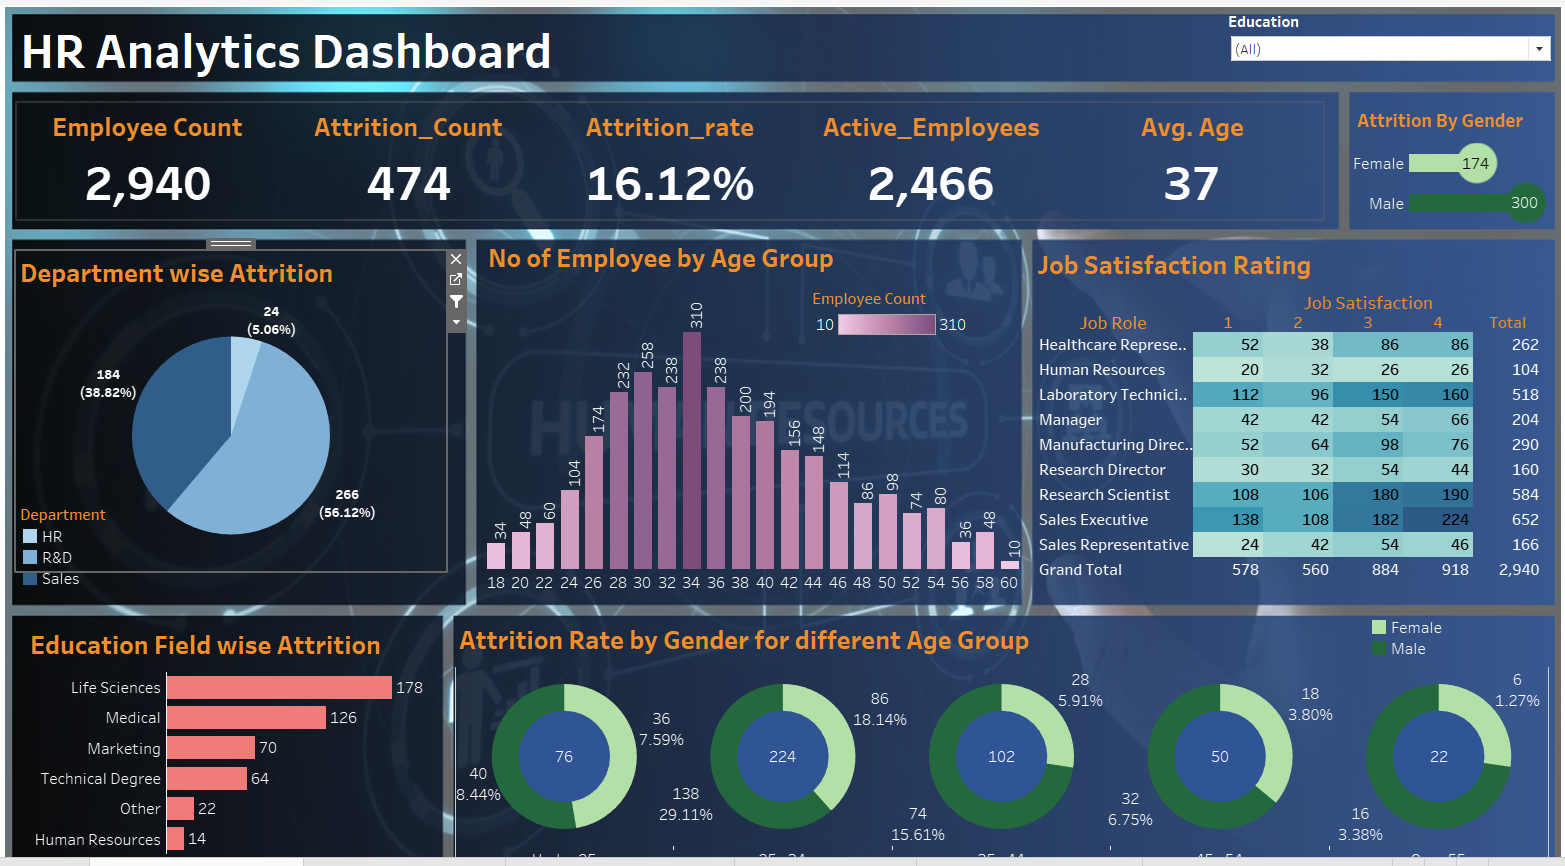

Layout of this report page (visuals, bound fields, positions):
{"tool":"tableau","page":{"name":"HR_Analytics_Dashboard","canvas":[1580,900],"ordinal":0},"visuals":[{"type":"image","param":"C:/Users/shara/Downloads/HR background_1.png","box":[8,8,1564,884]},{"type":"filter","title":"Department wise Attrition","param":"[federated.1qzj1e815s7ldw1539hzg1syywqf].[none:Education:nk]","box":[1235,16,326,67]},{"type":"text","box":[24,24,954,60]},{"type":"worksheet","title":"KPI","mark":"Automatic","box":[24,108,1306,116]},{"type":"worksheet","title":"Attrition By Gender","mark":"Automatic","rows":["Gender"],"cols":["Calculation_1238208429023760384","Calculation_1238208429023760384"],"box":[1360,108,199,120]},{"type":"worksheet","title":"No of Employee by Age Group","mark":"Automatic","rows":["Employee Count"],"cols":["Age (bin)"],"box":[491,241,538,358]},{"type":"worksheet","title":"Job Satisfaction Rating","mark":"Square","rows":["Job Role"],"cols":["Job Satisfaction"],"box":[1040,248,522,361]},{"type":"worksheet","title":"Department wise Attrition","mark":"Pie","box":[23,256,430,320]},{"type":"legend","title":"No of Employee by Age Group","param":"[federated.1qzj1e815s7ldw1539hzg1syywqf].[sum:Employee Count:qk]","box":[819,293,159,63]},{"type":"legend","title":"Department wise Attrition","param":"[federated.1qzj1e815s7ldw1539hzg1syywqf].[none:Department:nk]","box":[27,509,117,90]},{"type":"legend","title":"Attrition Rate by Gender for different Age Group","param":"[federated.1qzj1e815s7ldw1539hzg1syywqf].[none:Gender:nk]","box":[1376,622,119,44]},{"type":"worksheet","title":"Attrition Rate by Gender for different Age Group","mark":"Pie","rows":["Calculation_1238208429060689924","Calculation_1238208429060689924"],"cols":["CF_age band"],"box":[462,623,1094,255]},{"type":"worksheet","title":"Education Field wise Attrition","mark":"Automatic","rows":["Education Field"],"cols":["Calculation_1238208429023760384"],"box":[33,628,413,231]}]}

Visuals, with their boxes in screenshot pixels (x1, y1, x2, y2), scaled from the page's 1580x900 canvas onto the 1565x866 screenshot:
image: (8, 8, 1557, 858)
"Department wise Attrition" filter: (1223, 15, 1546, 80)
text: (24, 23, 969, 81)
"KPI" worksheet: (24, 104, 1317, 216)
"Attrition By Gender" worksheet: (1347, 104, 1544, 219)
"No of Employee by Age Group" worksheet: (486, 232, 1019, 576)
"Job Satisfaction Rating" worksheet (Square marks): (1030, 239, 1547, 586)
"Department wise Attrition" worksheet (Pie marks): (23, 246, 449, 554)
"No of Employee by Age Group" legend: (811, 282, 969, 343)
"Department wise Attrition" legend: (27, 490, 143, 576)
"Attrition Rate by Gender for different Age Group" legend: (1363, 599, 1481, 641)
"Attrition Rate by Gender for different Age Group" worksheet (Pie marks): (458, 599, 1541, 845)
"Education Field wise Attrition" worksheet: (33, 604, 442, 827)
